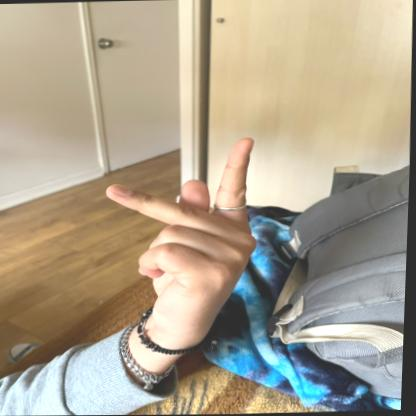K: (97, 129, 269, 340)
